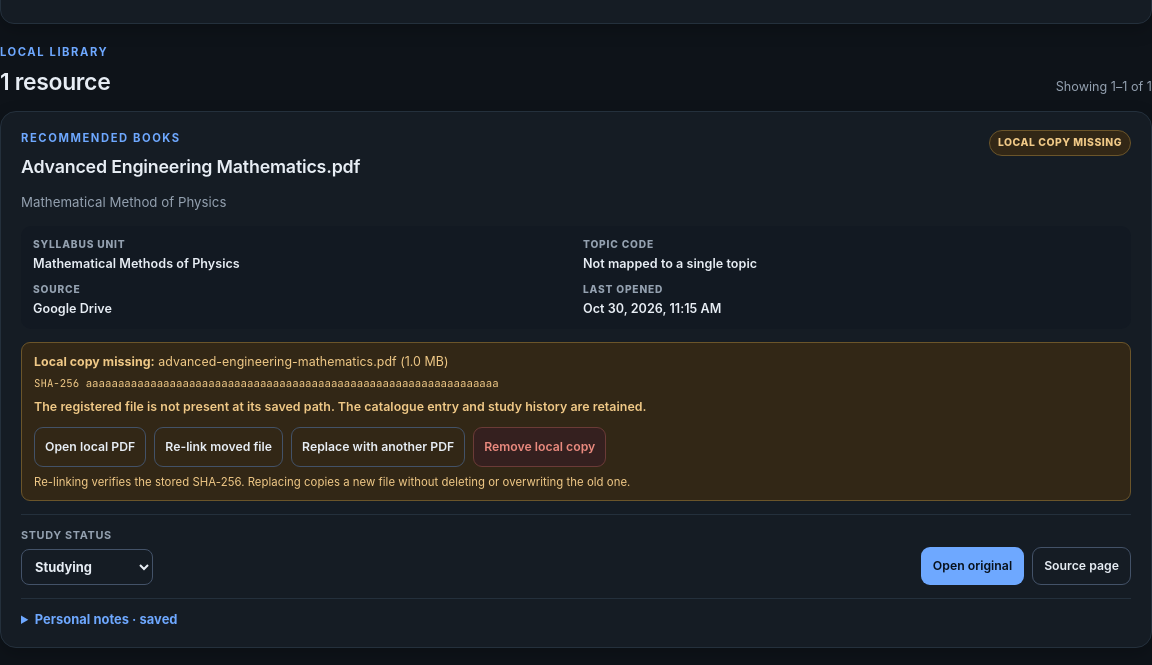
Test: study resources screen › shows missing local files, rejects opening them, and re-links a moved file
(page scrolled)
Expected: the heading "Advanced Engineering Mathematics.pdf" is shown, [21, 155, 360, 180]
Expected: the text "Local copy missing" is shown, [989, 130, 1131, 156]
Step 1. Click the button "Open local PDF" → [90, 447], box [34, 427, 146, 467]
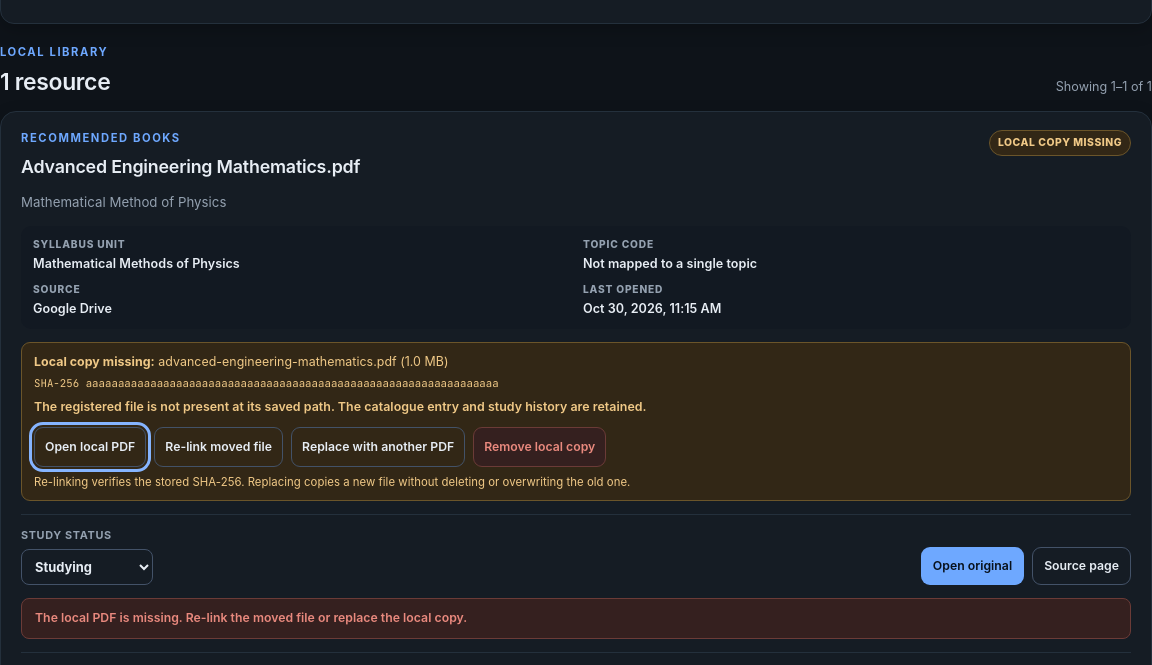
Now the text "The local PDF is missing. Re-link the moved file or replace the local copy." is shown, box [21, 598, 1131, 639]
Step 2. Click the button "Re-link moved file" → [219, 447], box [154, 427, 283, 467]
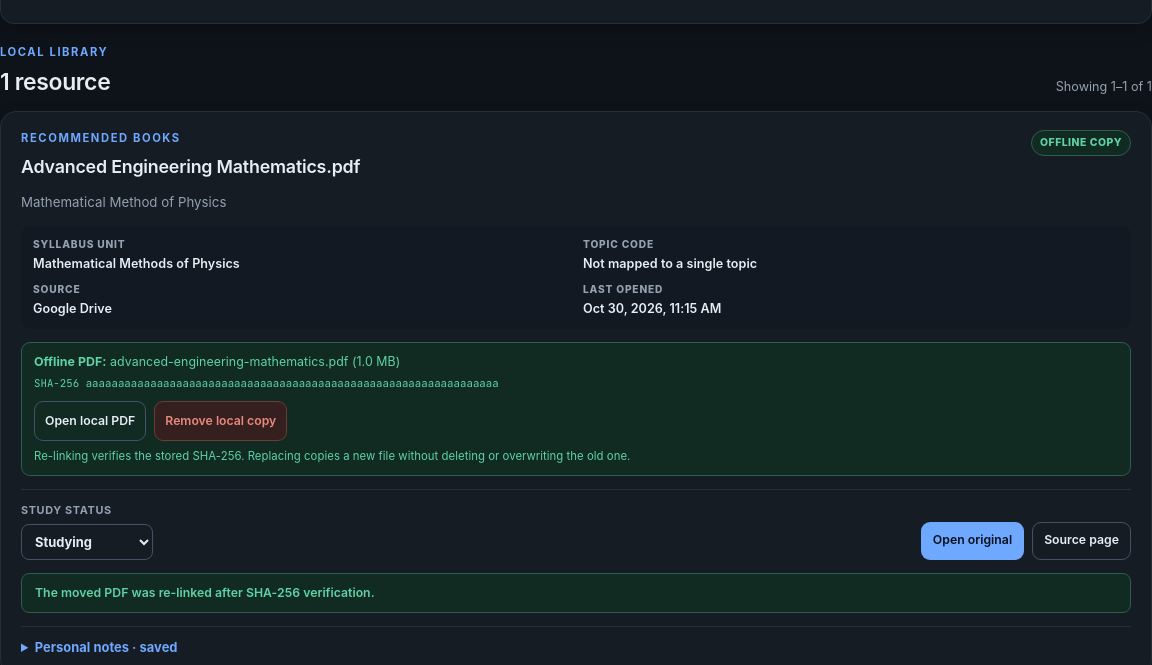
Now the text "Offline copy" is shown, box [1031, 130, 1131, 156]
